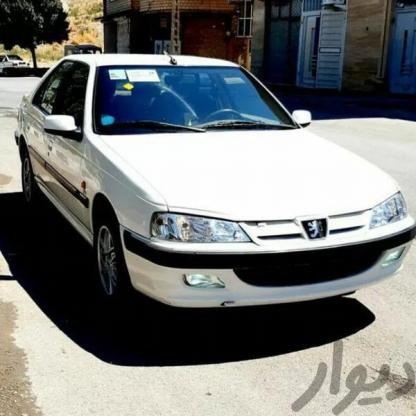Car: (0, 41, 416, 340), (0, 48, 32, 84)
